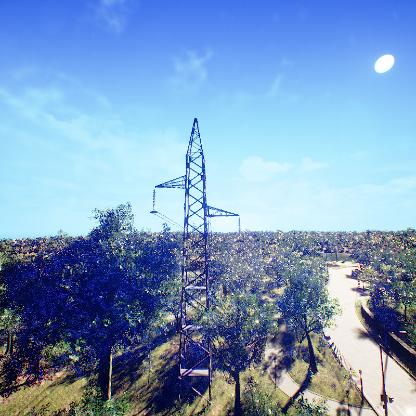tower: (148, 116, 242, 407)
